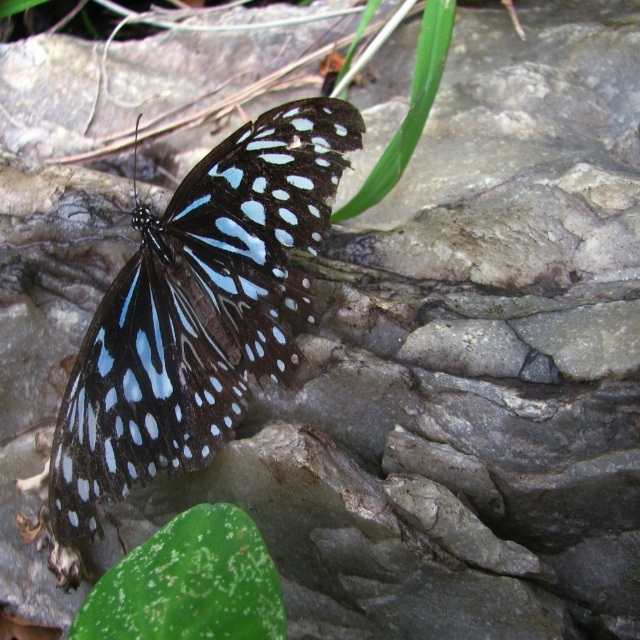Butterfly: (47, 74, 382, 563)
